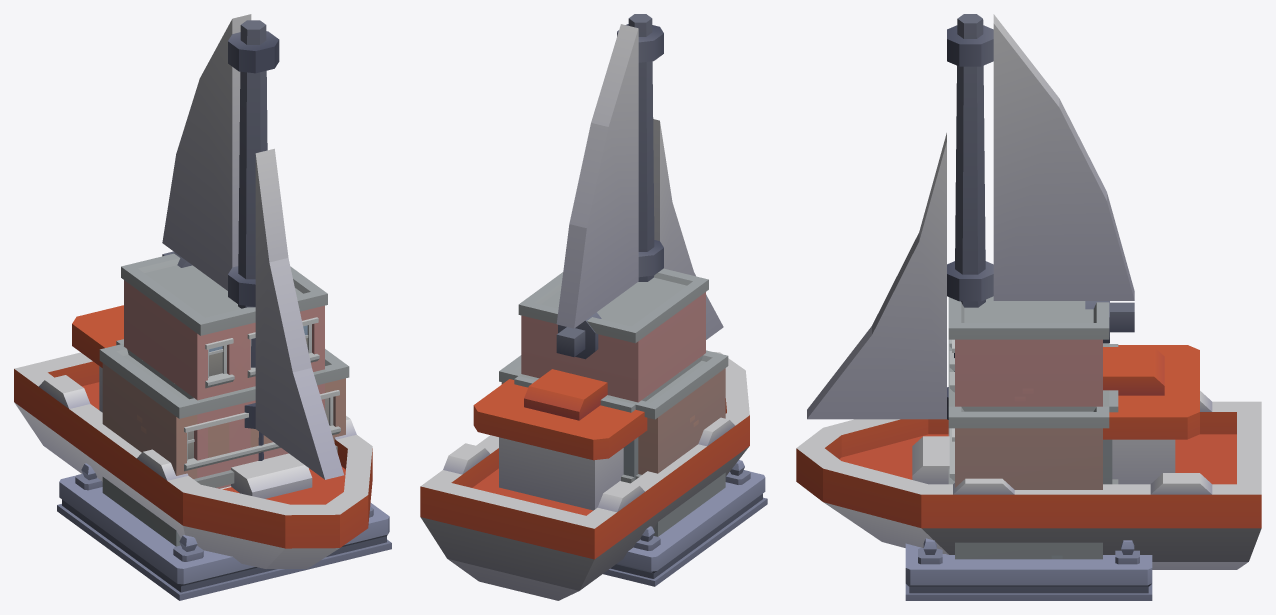
The model's file is planete.glb.
3 views of the same model, side by side, from view 1: azimuth 30°, elevation 25°; view 2: azimuth 150°, elevation 25°; view 3: azimuth 270°, elevation 25° (orthographic). The views are drawn at different scales.
Visible parts, largest first — view 1: voilier, immeuble_c, immeuble_b, fontaine; view 2: voilier, immeuble_c, immeuble_b, fontaine, immeuble_a; view 3: voilier, immeuble_c, immeuble_b, fontaine, immeuble_a.
Boxes of the visible parts, left/top/right/bottom form: voilier: left=14, top=14, right=372, bottom=568; immeuble_c: left=121, top=253, right=327, bottom=488; immeuble_b: left=99, top=344, right=349, bottom=546; fontaine: left=57, top=463, right=391, bottom=600; voilier: left=420, top=14, right=749, bottom=600; immeuble_c: left=518, top=268, right=708, bottom=404; immeuble_b: left=499, top=351, right=728, bottom=536; fontaine: left=603, top=460, right=767, bottom=586; immeuble_a: left=514, top=355, right=702, bottom=483; voilier: left=796, top=14, right=1261, bottom=569; immeuble_c: left=948, top=296, right=1109, bottom=484; immeuble_b: left=948, top=339, right=1109, bottom=559; fontaine: left=905, top=538, right=1152, bottom=600; immeuble_a: left=961, top=344, right=1118, bottom=484.
Size of the model in its own units: 2 by 4.74 by 3.77.
